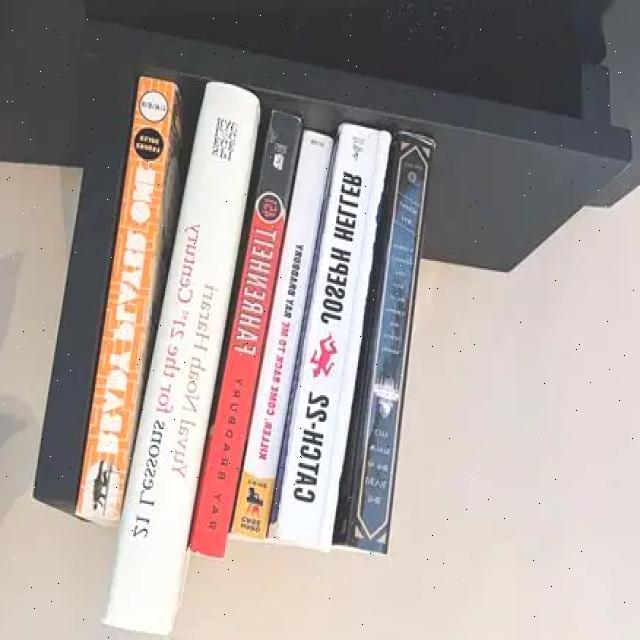book: (106, 86, 258, 635), (186, 109, 304, 560), (273, 127, 393, 550), (76, 81, 180, 522), (232, 134, 333, 538), (351, 133, 437, 554)
